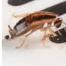cockroach: (10, 12, 62, 37)
